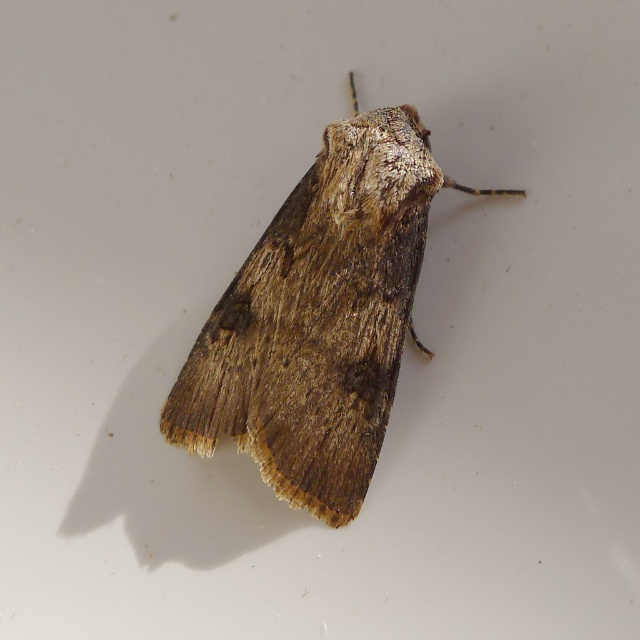Moths and butterflies: (158, 72, 529, 533)
